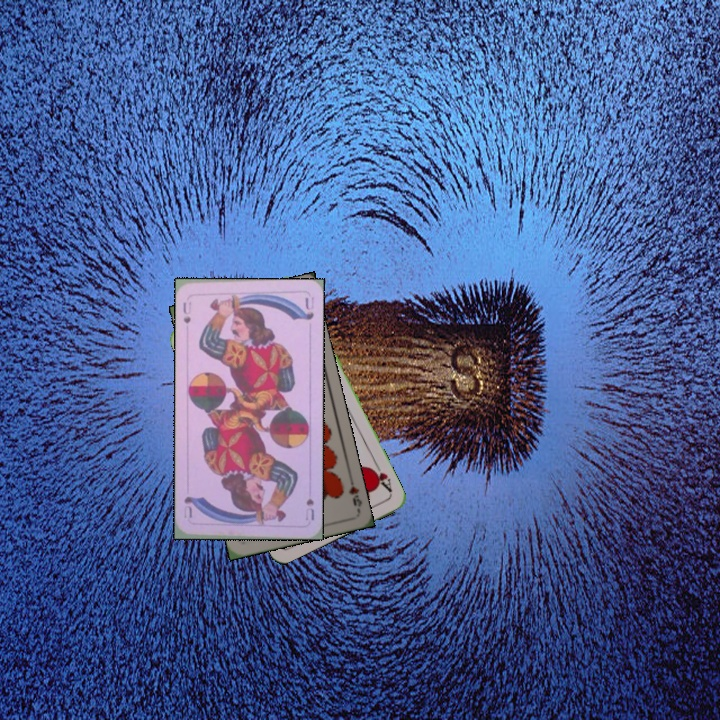H9: (345, 472, 364, 509)
HA: (366, 458, 395, 495)
SU: (302, 494, 317, 523), (179, 298, 194, 326)
